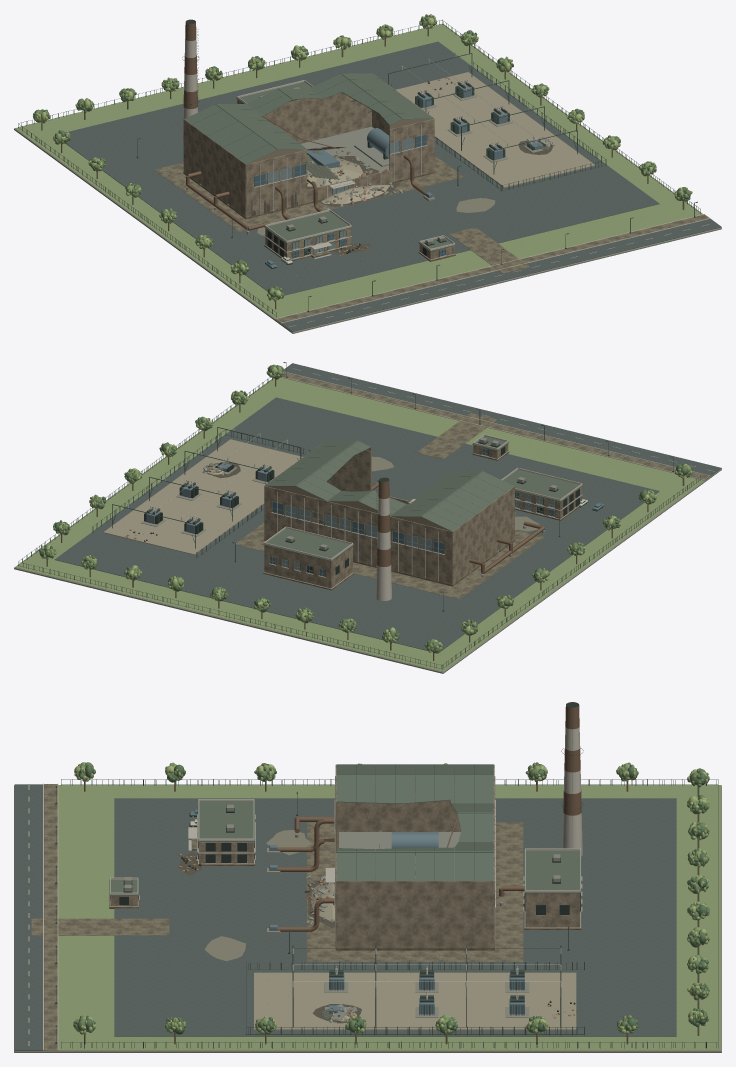
File: power-abandoned.glb
The picture shows the model from 3 angles, top to bottom: view 1: azimuth 30°, elevation 25°; view 2: azimuth 150°, elevation 25°; view 3: azimuth 270°, elevation 25°; orthographic projection. The views are drawn at different scales.
Visible parts, largest first — view 1: 材质批次_asphalt, 材质批次_grass, 材质批次_limestone, 材质批次_planter_gravel, 材质批次_sage_metal_roof, 材质批次_plaza_paving, 材质批次_street_metal, 材质批次_poi_service_concrete, 材质批次_warm_cream_trim, 材质批次_poi_exposed_rust, 材质批次_leaf_2, 材质批次_leaf_0 (+10 smaller); view 2: 材质批次_asphalt, 材质批次_grass, 材质批次_limestone, 材质批次_sage_metal_roof, 材质批次_planter_gravel, 材质批次_plaza_paving, 材质批次_street_metal, 材质批次_warm_cream_trim, 材质批次_poi_service_concrete, 材质批次_leaf_1, 材质批次_leaf_2, 材质批次_leaf_0 (+9 smaller); view 3: 材质批次_asphalt, 材质批次_grass, 材质批次_limestone, 材质批次_sage_metal_roof, 材质批次_planter_gravel, 材质批次_plaza_paving, 材质批次_street_metal, 材质批次_poi_service_concrete, 材质批次_warm_cream_trim, 材质批次_poi_exposed_rust, 材质批次_leaf_1, 材质批次_leaf_3 (+9 smaller).
Part boxes in pixels (box(x1,y1,x2,y2)): 材质批次_asphalt: box(54, 41, 721, 331); 材质批次_grass: box(15, 24, 702, 318); 材质批次_limestone: box(183, 74, 454, 259); 材质批次_planter_gravel: box(307, 72, 595, 203); 材质批次_sage_metal_roof: box(184, 73, 549, 251); 材质批次_plaza_paving: box(154, 155, 709, 323); 材质批次_street_metal: box(18, 19, 700, 317); 材质批次_poi_service_concrete: box(14, 24, 721, 333); 材质批次_warm_cream_trim: box(182, 39, 710, 323); 材质批次_poi_exposed_rust: box(183, 19, 549, 230); 材质批次_leaf_2: box(33, 14, 688, 300); 材质批次_leaf_0: box(33, 16, 692, 301); 材质批次_asphalt: box(54, 363, 721, 653); 材质批次_grass: box(15, 377, 703, 671); 材质批次_limestone: box(264, 441, 582, 588); 材质批次_sage_metal_roof: box(224, 436, 583, 561); 材质批次_planter_gravel: box(103, 439, 302, 554); 材质批次_plaza_paving: box(234, 372, 710, 599); 材质批次_street_metal: box(18, 362, 700, 669); 材质批次_warm_cream_trim: box(127, 371, 710, 600); 材质批次_poi_service_concrete: box(14, 379, 721, 673); 材质批次_leaf_1: box(39, 364, 689, 652); 材质批次_leaf_2: box(40, 365, 692, 652); 材质批次_leaf_0: box(38, 366, 691, 653); 材质批次_asphalt: box(14, 784, 676, 1050); 材质批次_grass: box(58, 785, 720, 1050); 材质批次_limestone: box(110, 764, 580, 948); 材质批次_sage_metal_roof: box(109, 764, 581, 1018); 材质批次_planter_gravel: box(254, 876, 576, 1030); 材质批次_plaza_paving: box(31, 784, 523, 1050); 材质批次_street_metal: box(55, 721, 718, 1048); 材质批次_poi_service_concrete: box(14, 785, 721, 1052); 材质批次_warm_cream_trim: box(43, 727, 582, 1050); 材质批次_poi_exposed_rust: box(277, 702, 581, 1019); 材质批次_leaf_1: box(73, 762, 709, 1033); 材质批次_leaf_3: box(73, 763, 709, 1034).
Bounding box in the file's own units: 160 × 43.6 × 180.
Materials: 35 (5 with a texture image).
